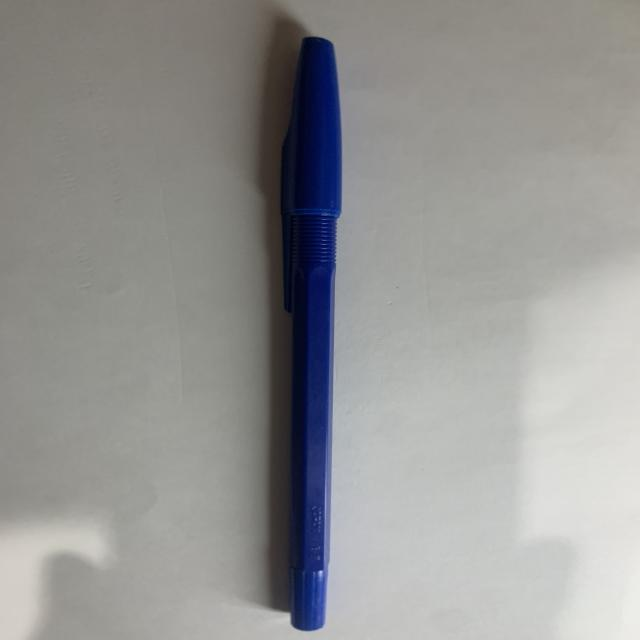Pulpen: (269, 32, 370, 635)
